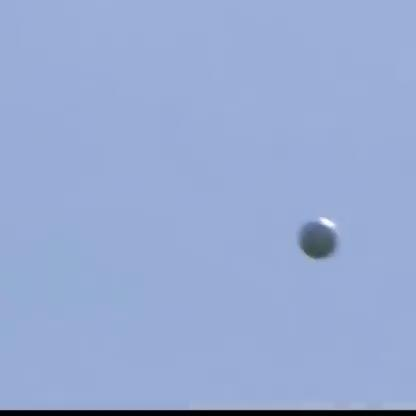golfball: (294, 218, 336, 257)
